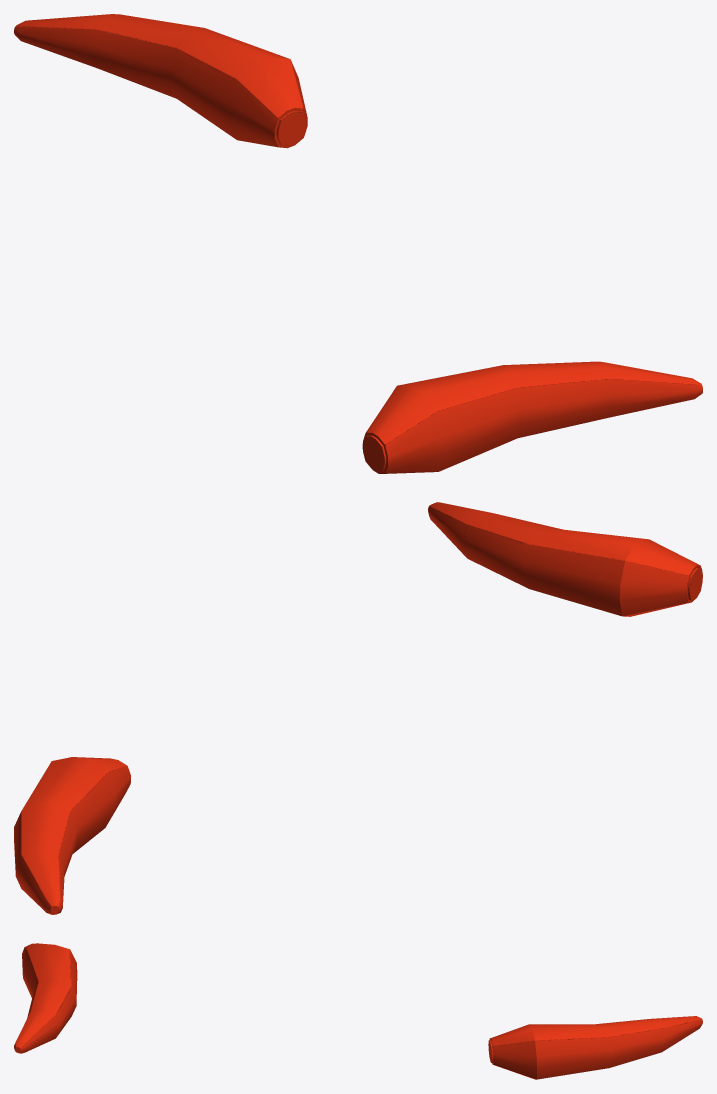
The picture shows the model from 3 angles, top to bottom: view 1: azimuth 30°, elevation 25°; view 2: azimuth 150°, elevation 25°; view 3: azimuth 270°, elevation 25°; orthographic projection. The views are drawn at different scales.
Parts seen in each view (by area): view 1: Circle.025_Baked; view 2: Circle.025_Baked; view 3: Circle.025_Baked.
Part boxes in pixels (left/top/right/bottom): Circle.025_Baked: left=14, top=14, right=702, bottom=473; Circle.025_Baked: left=14, top=502, right=702, bottom=914; Circle.025_Baked: left=14, top=943, right=702, bottom=1079.
Size of the model in its own units: 44.94 by 12.49 by 130.
Materials: 1 (1 with a texture image).
